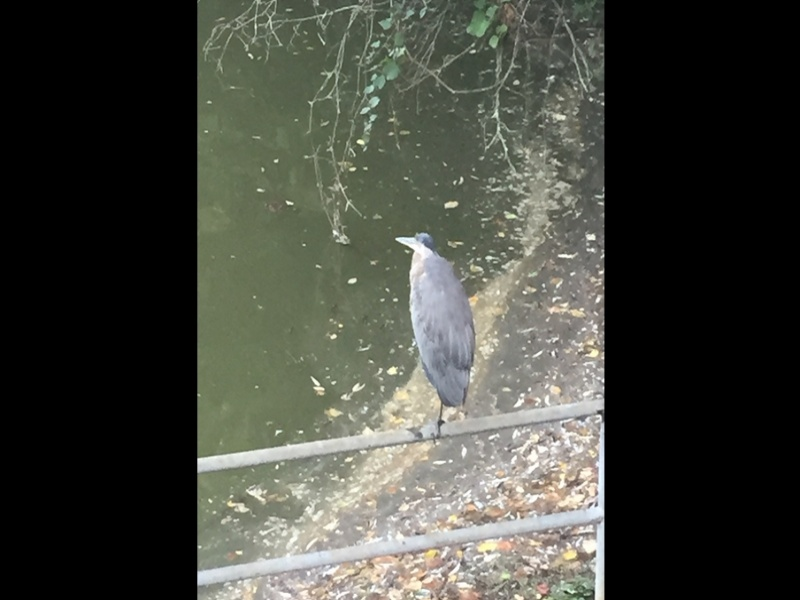heron: (393, 230, 475, 415)
